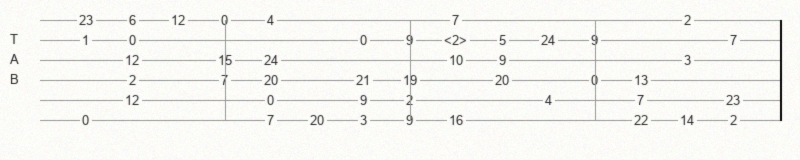0: (82, 113, 93, 127), (129, 33, 140, 47), (221, 13, 232, 27), (267, 93, 278, 107), (360, 33, 371, 47), (591, 73, 602, 87)
1: (82, 33, 93, 47)
10: (449, 53, 467, 67)
12: (125, 53, 143, 67), (125, 93, 143, 107), (171, 13, 189, 27)
13: (634, 73, 652, 87)
14: (680, 113, 698, 127)
15: (218, 53, 236, 67)
16: (449, 113, 467, 127)
19: (403, 73, 421, 87)
2: (129, 73, 140, 87), (406, 93, 417, 107), (684, 13, 695, 27), (730, 113, 741, 127)
20: (264, 73, 282, 87), (310, 113, 328, 127), (495, 73, 513, 87)
21: (356, 73, 374, 87)
22: (634, 113, 652, 127)
23: (79, 13, 97, 27), (726, 93, 744, 107)
24: (264, 53, 282, 67), (541, 33, 559, 47)
3: (360, 113, 371, 127), (684, 53, 695, 67)
4: (267, 13, 278, 27), (545, 93, 556, 107)
5: (499, 33, 510, 47)
6: (129, 13, 140, 27)
7: (221, 73, 232, 87), (267, 113, 278, 127), (452, 13, 463, 27), (637, 93, 648, 107), (730, 33, 741, 47)
9: (360, 93, 371, 107), (406, 33, 417, 47), (406, 113, 417, 127), (499, 53, 510, 67), (591, 33, 602, 47)
harmonic: (444, 33, 471, 47)
